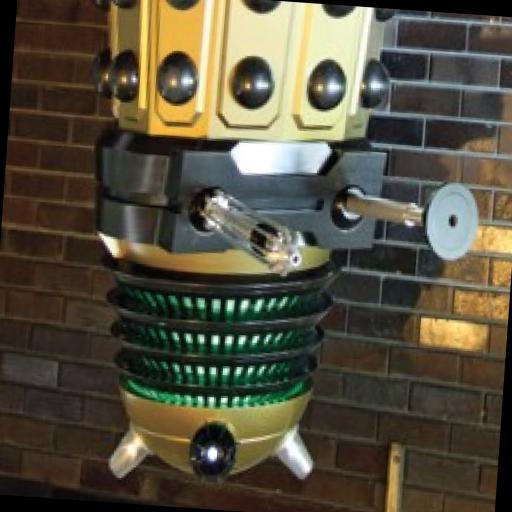dalek: (55, 0, 495, 507)
